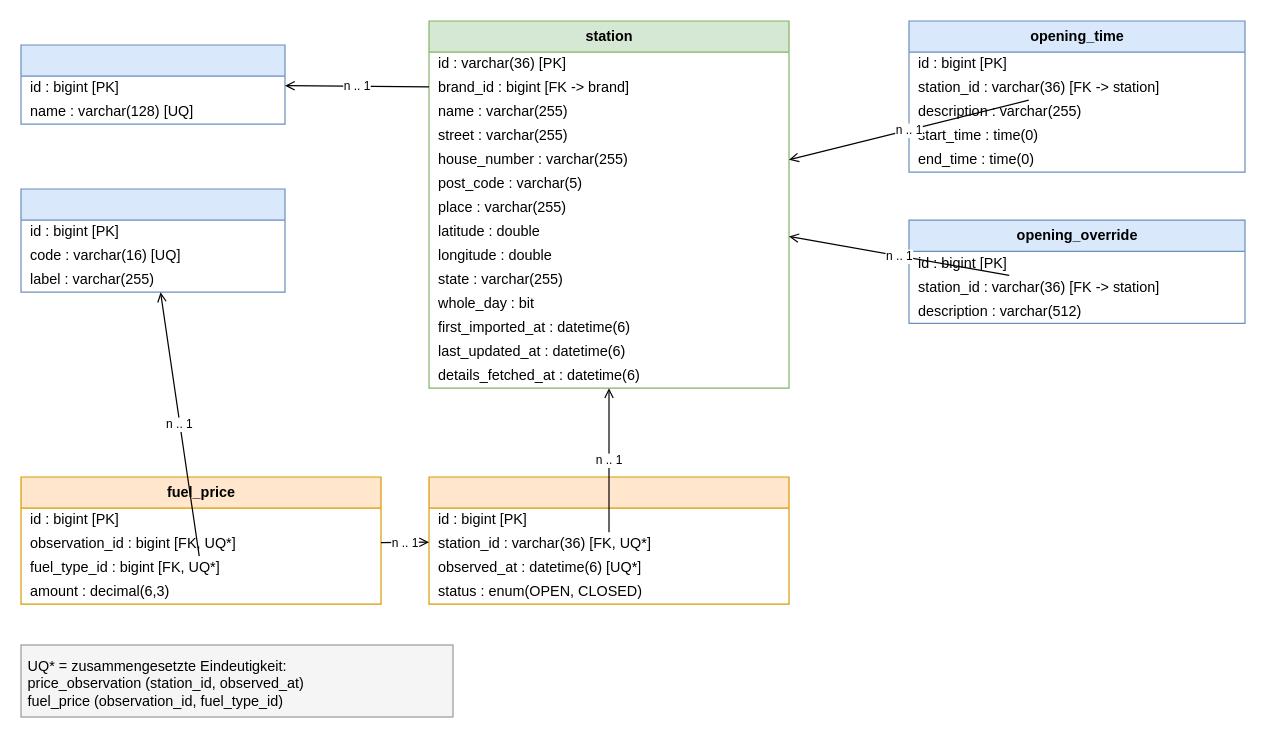
The diagram is 1266 pixels wide and 738 high, and some of its shapes have lost their labels. The shapes that lost their labels are listed below. From the top down, each one's box as (x1, y1, x2, y2) in pixels, then its label:
(20, 44, 285, 124): brand
(20, 188, 285, 292): fuel_type
(428, 476, 789, 604): price_observation
